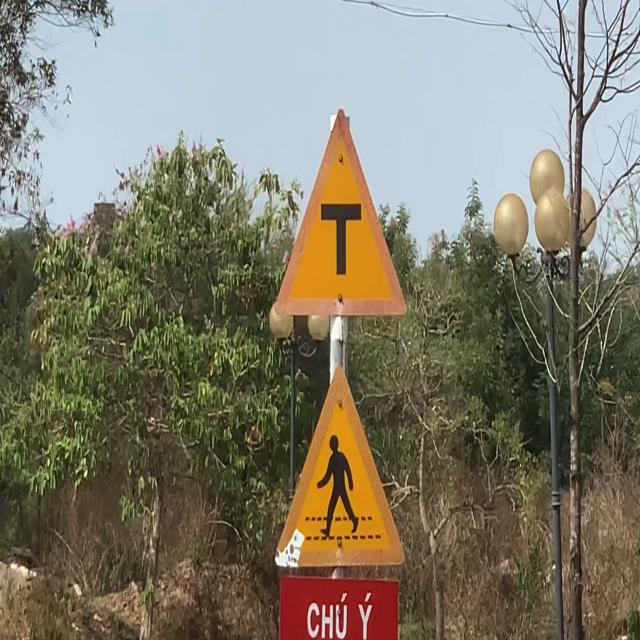Duong giao nhau: (273, 104, 410, 318)
Nguoi di bo cat ngang: (273, 364, 406, 570)
